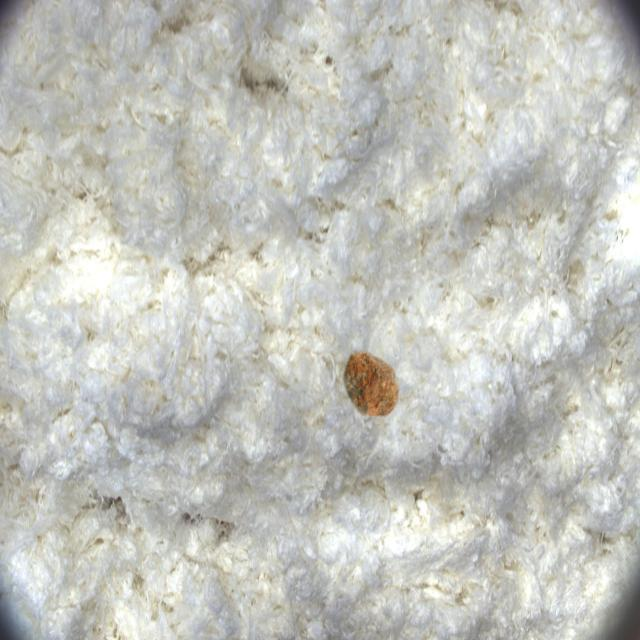dust: (320, 322, 432, 450)
